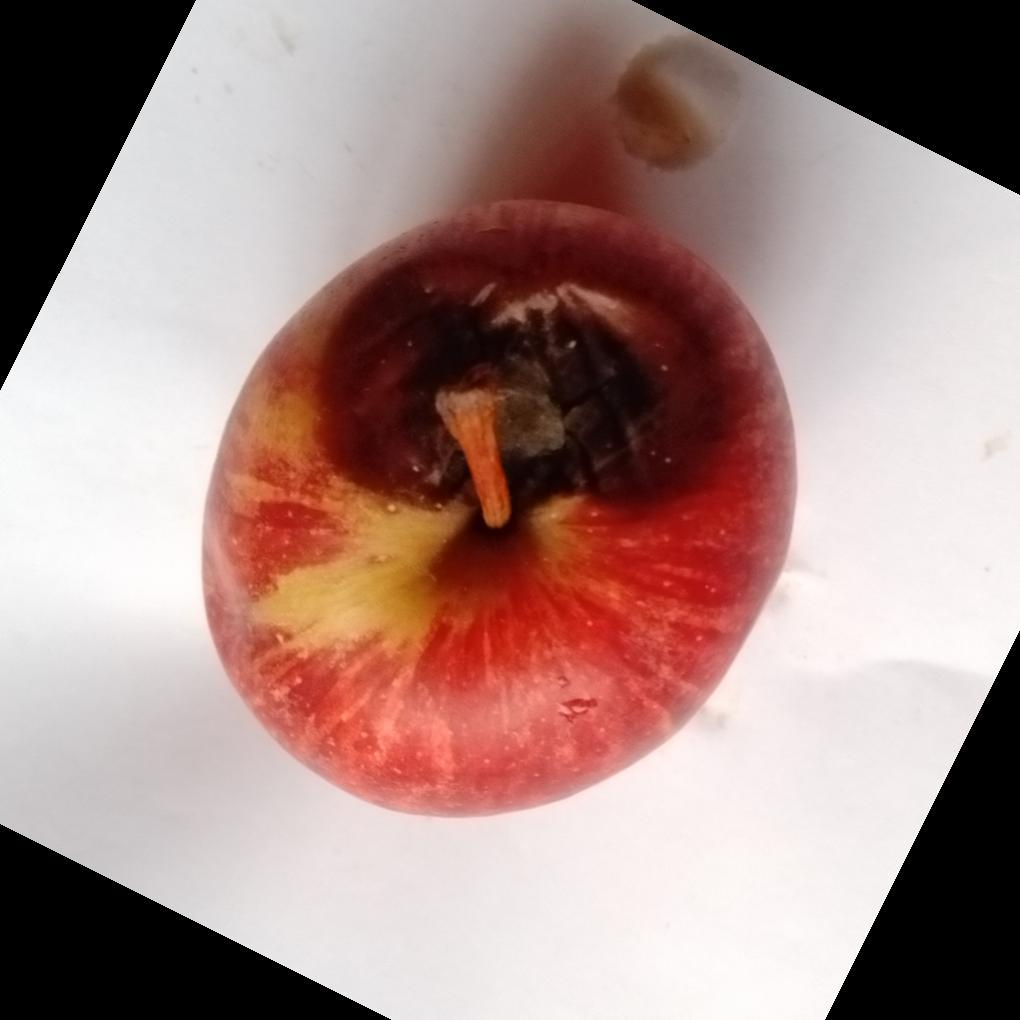FreshOrange: (198, 198, 799, 822)
